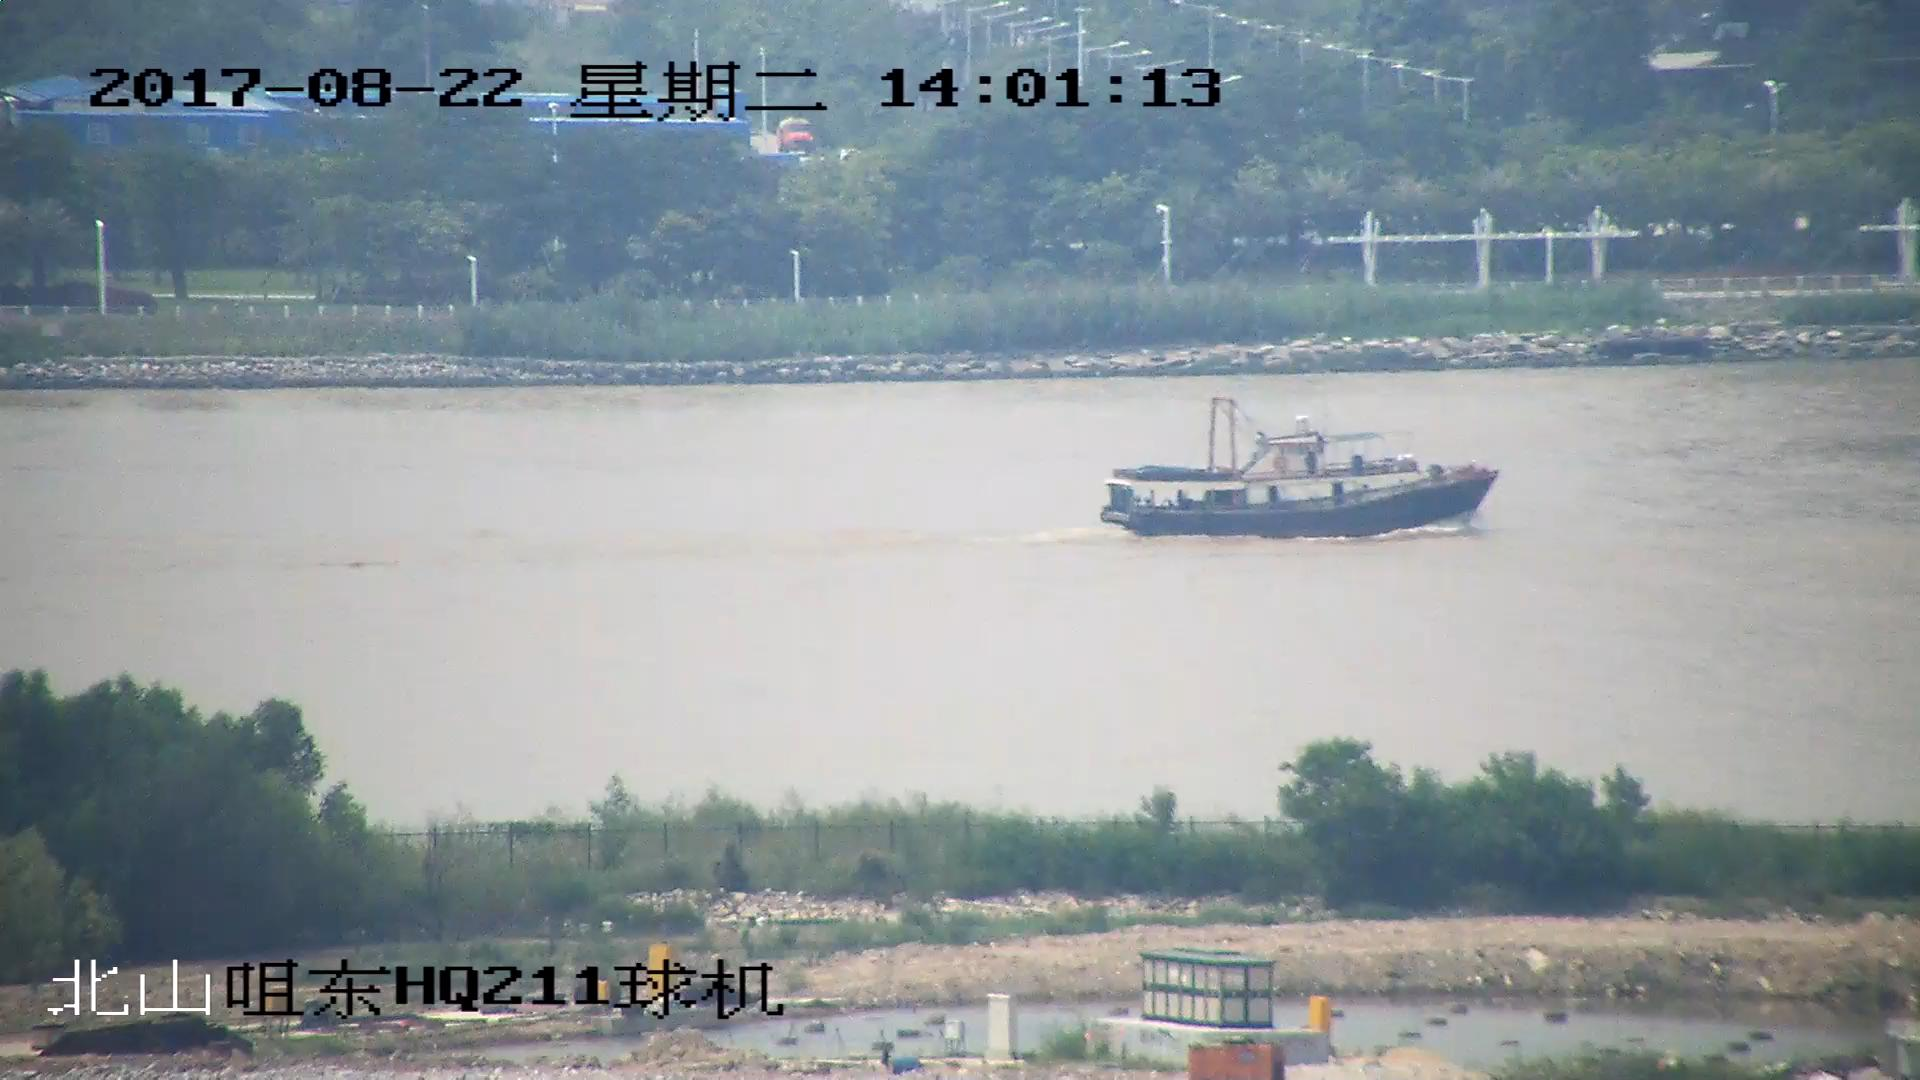fishing boat: (1097, 403, 1494, 543)
